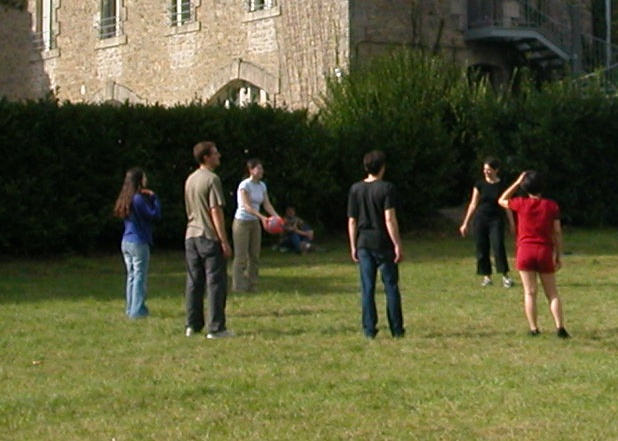person: (350, 150, 406, 342), (179, 140, 230, 340), (511, 169, 569, 341), (111, 167, 158, 322), (227, 156, 275, 293)
